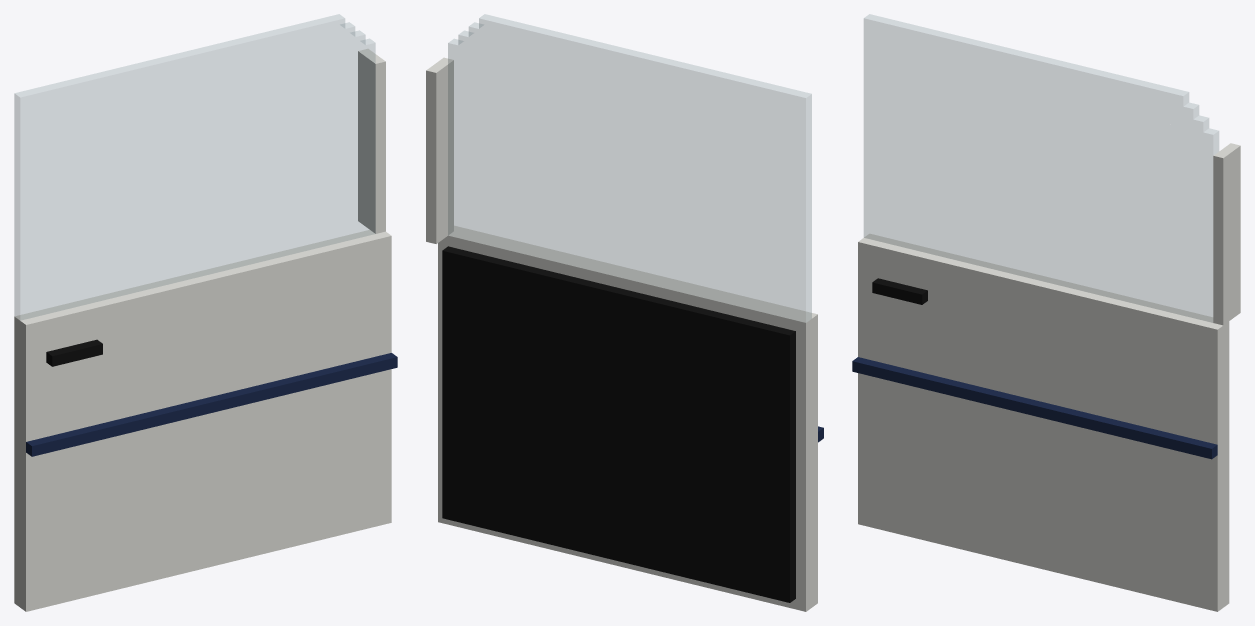
File: riot_van_front_door.glb
3 views of the same model, side by side, from view 1: azimuth 30°, elevation 25°; view 2: azimuth 150°, elevation 25°; view 3: azimuth 330°, elevation 25° (orthographic). The views are drawn at different scales.
Visible parts, largest first — view 1: body:compound; view 2: body:compound; view 3: body:compound.
Part boxes in pixels (x1,y1,x2,y2): body:compound: [14, 14, 397, 611]; body:compound: [426, 14, 823, 611]; body:compound: [852, 14, 1240, 611].
Bounding box in the file's own units: 1.12 × 1.5 × 0.1562.
